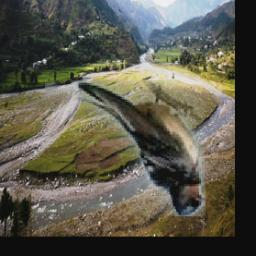Swallow: (46, 81, 206, 217)
